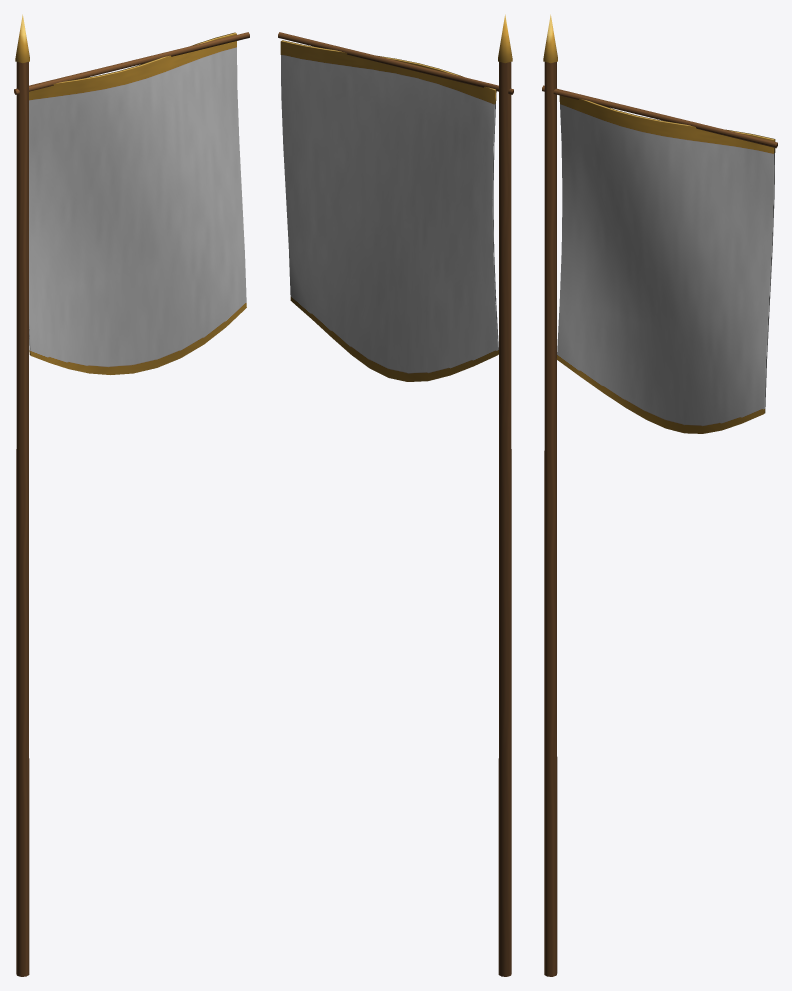
Rendered from etendard.glb.
3 renders of one model, left to right at view 1: azimuth 30°, elevation 25°; view 2: azimuth 150°, elevation 25°; view 3: azimuth 330°, elevation 25°, orthographic.
Parts seen in each view (by area): view 1: etendard; view 2: etendard; view 3: etendard.
Boxes of the visible parts, bbox=[...] form: etendard: bbox=[14, 14, 249, 976]; etendard: bbox=[278, 14, 513, 976]; etendard: bbox=[542, 14, 777, 976].
Bounding box in the file's own units: 0.64 × 2.52 × 0.058.
Materials: 1 (1 with a texture image).
